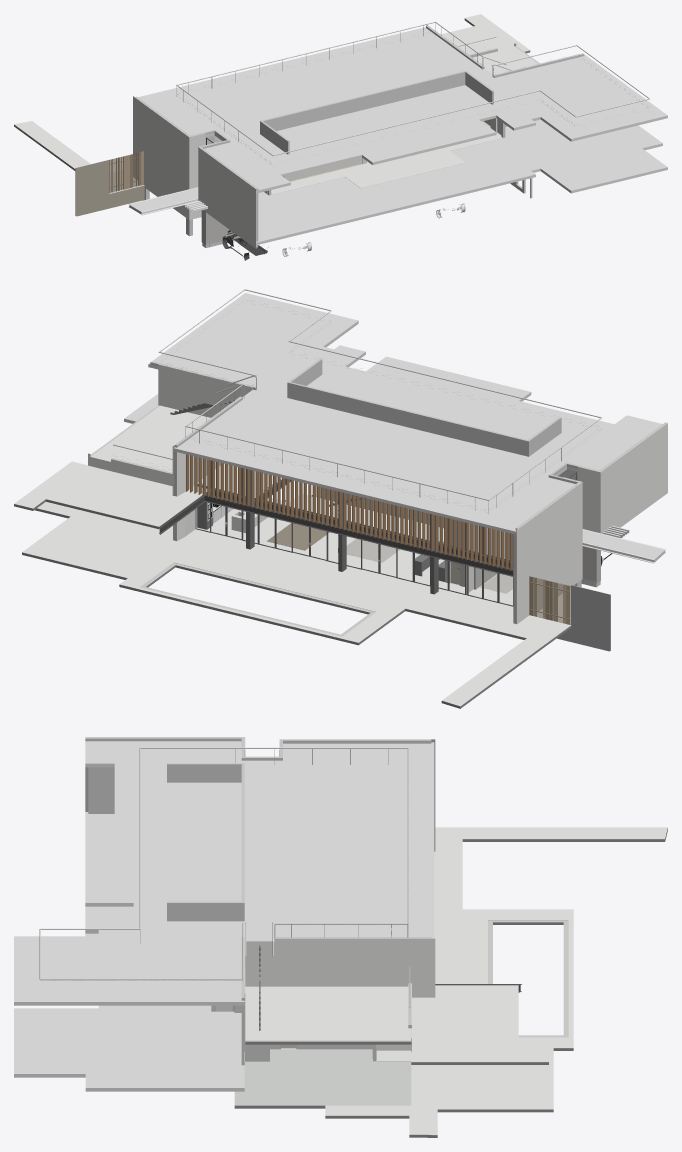
Rendered from salon_baked.glb.
The picture shows the model from 3 angles, top to bottom: view 1: azimuth 30°, elevation 25°; view 2: azimuth 150°, elevation 25°; view 3: azimuth 270°, elevation 25°; orthographic projection. The views are drawn at different scales.
Parts seen in each view (by area): view 1: BAKED|L4|F, BAKED|L2|F, BAKED|L0|X, BAKED|L4|X, BAKED|L1|X, BAKED|L3|F, BAKED|L1|F, BAKED|L2|X, BAKED|L0|F, BAKED|L3|X; view 2: BAKED|L4|F, BAKED|L1|F, BAKED|L3|X, BAKED|L1|X, BAKED|L0|X, BAKED|L3|F, BAKED|L4|X, BAKED|L0|F, BAKED|L1|D; view 3: BAKED|L4|F, BAKED|L1|F, BAKED|L2|F, BAKED|L3|F, BAKED|L3|X, BAKED|L4|X, BAKED|L2|X, BAKED|L1|X, BAKED|L0|X.
Boxes of the visible parts, x1=… form: BAKED|L4|F: x1=138, y1=27, x2=667, y2=193; BAKED|L2|F: x1=256, y1=119, x2=667, y2=245; BAKED|L0|X: x1=75, y1=119, x2=532, y2=260; BAKED|L4|X: x1=135, y1=21, x2=649, y2=190; BAKED|L1|X: x1=133, y1=96, x2=465, y2=256; BAKED|L3|F: x1=441, y1=14, x2=539, y2=74; BAKED|L1|F: x1=14, y1=121, x2=143, y2=193; BAKED|L2|X: x1=185, y1=118, x2=507, y2=247; BAKED|L0|F: x1=129, y1=188, x2=198, y2=214; BAKED|L3|X: x1=426, y1=24, x2=574, y2=74; BAKED|L4|F: x1=148, y1=293, x2=662, y2=534; BAKED|L1|F: x1=22, y1=494, x2=571, y2=708; BAKED|L3|X: x1=88, y1=364, x2=513, y2=576; BAKED|L1|X: x1=173, y1=451, x2=582, y2=624; BAKED|L0|X: x1=316, y1=423, x2=667, y2=651; BAKED|L3|F: x1=14, y1=405, x2=281, y2=529; BAKED|L4|X: x1=150, y1=289, x2=666, y2=530; BAKED|L0|F: x1=582, y1=530, x2=665, y2=561; BAKED|L1|D: x1=267, y1=523, x2=329, y2=550; BAKED|L4|F: x1=14, y1=741, x2=434, y2=1005; BAKED|L1|F: x1=234, y1=827, x2=667, y2=1137; BAKED|L2|F: x1=14, y1=812, x2=244, y2=1091; BAKED|L3|F: x1=245, y1=985, x2=548, y2=1064; BAKED|L3|X: x1=244, y1=922, x2=521, y2=1052; BAKED|L4|X: x1=39, y1=737, x2=431, y2=1000; BAKED|L2|X: x1=88, y1=767, x2=244, y2=1065; BAKED|L1|X: x1=271, y1=739, x2=435, y2=1061; BAKED|L0|X: x1=85, y1=737, x2=271, y2=1061.
Size of the model in its own units: 38.72 by 8.4 by 32.4.
